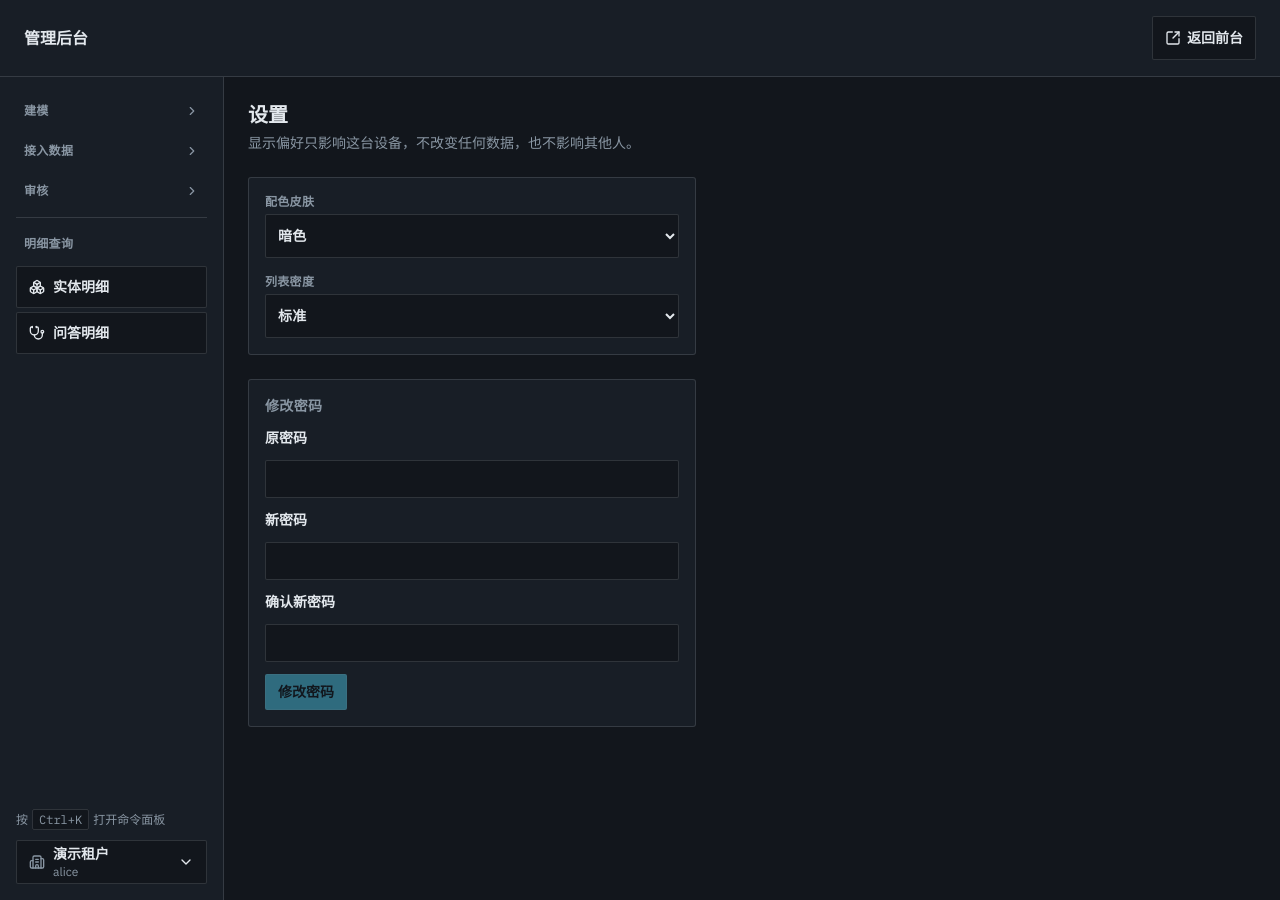
Test: 设置页的改密码 › 两次新密码不一致时不发请求
In the password field labelled "原密码": (472, 479) [265,460,679,498], type "password1"
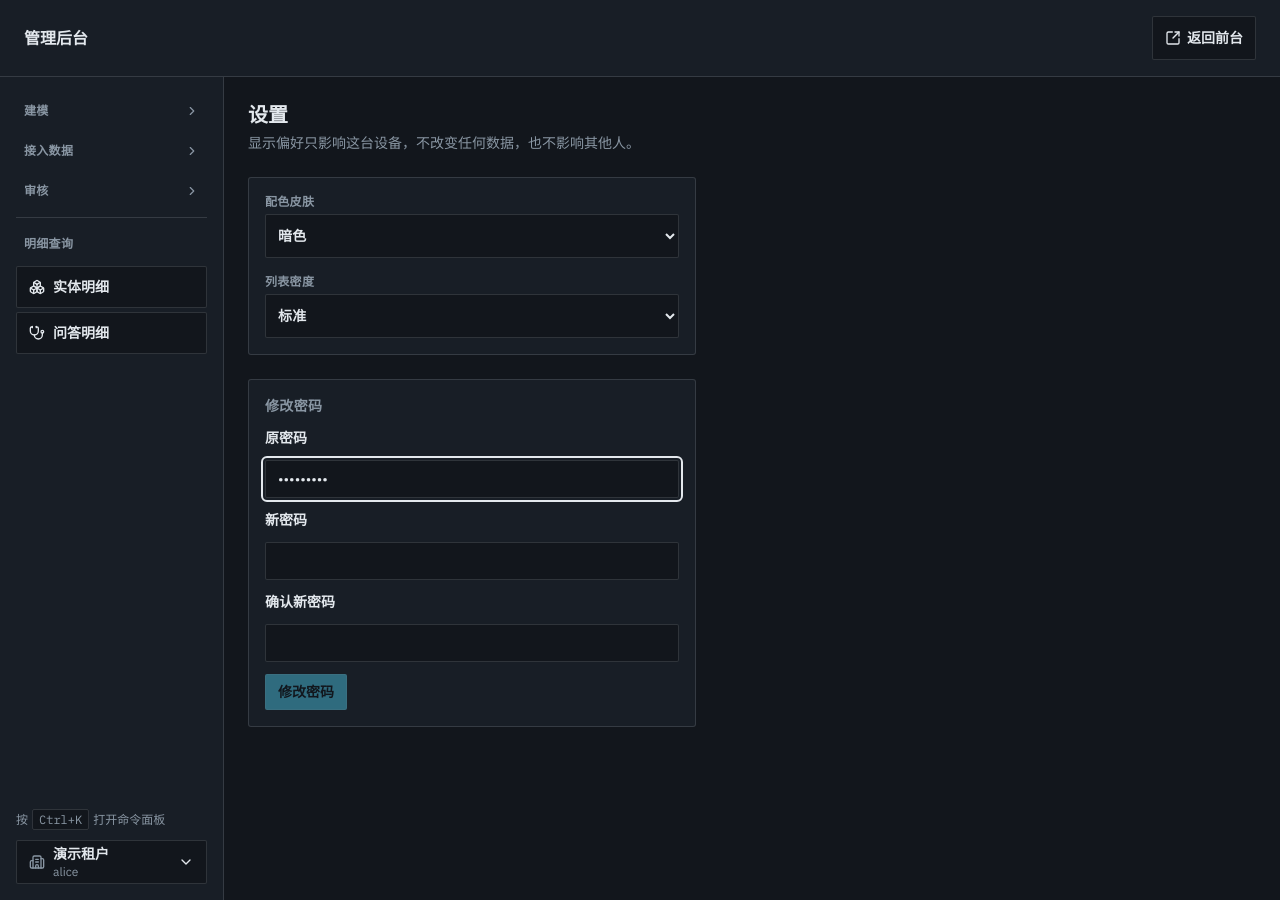
In the password field labelled "新密码": (472, 561) [265,542,679,580], type "password2"
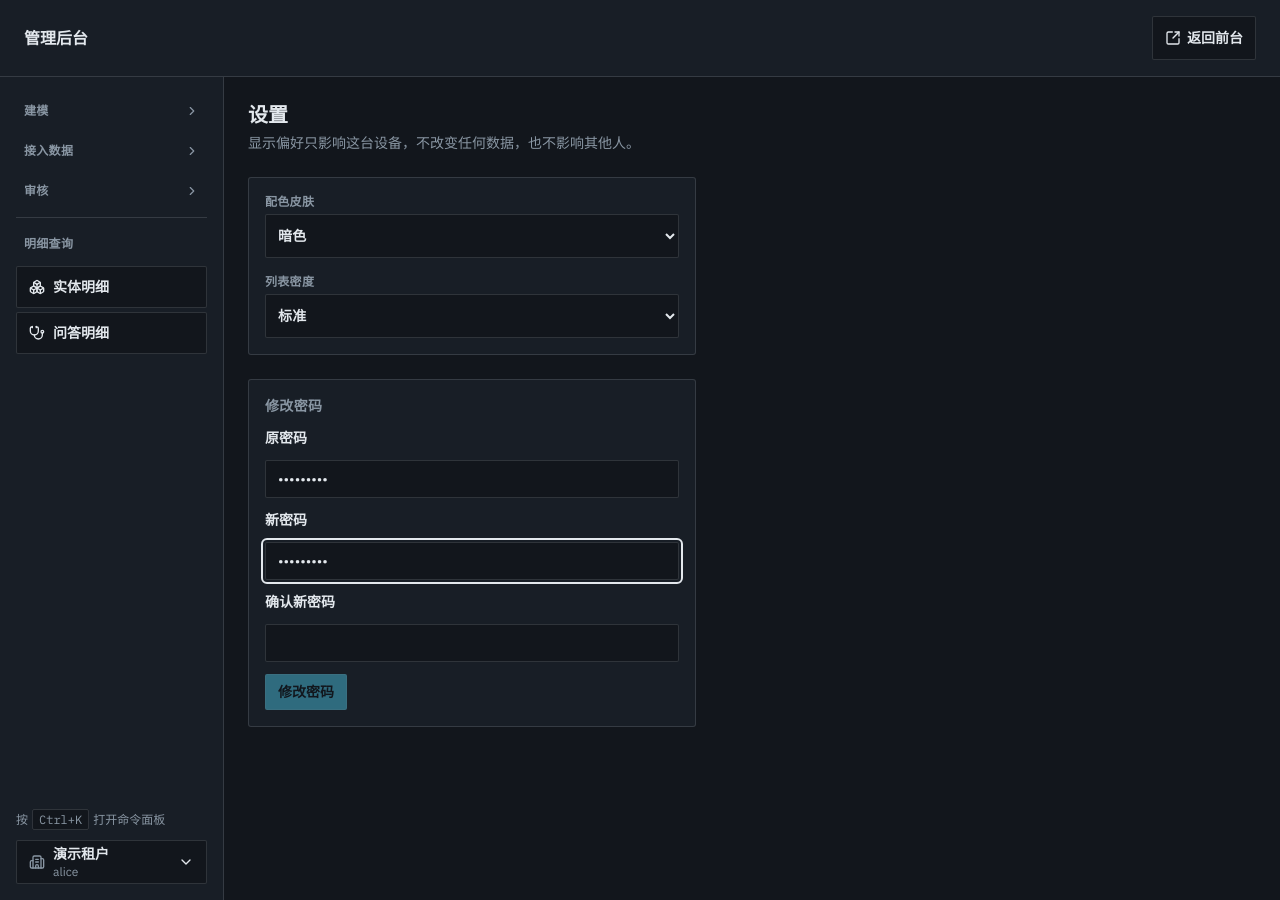
In the password field labelled "确认新密码": (472, 643) [265,624,679,662], type "password3"
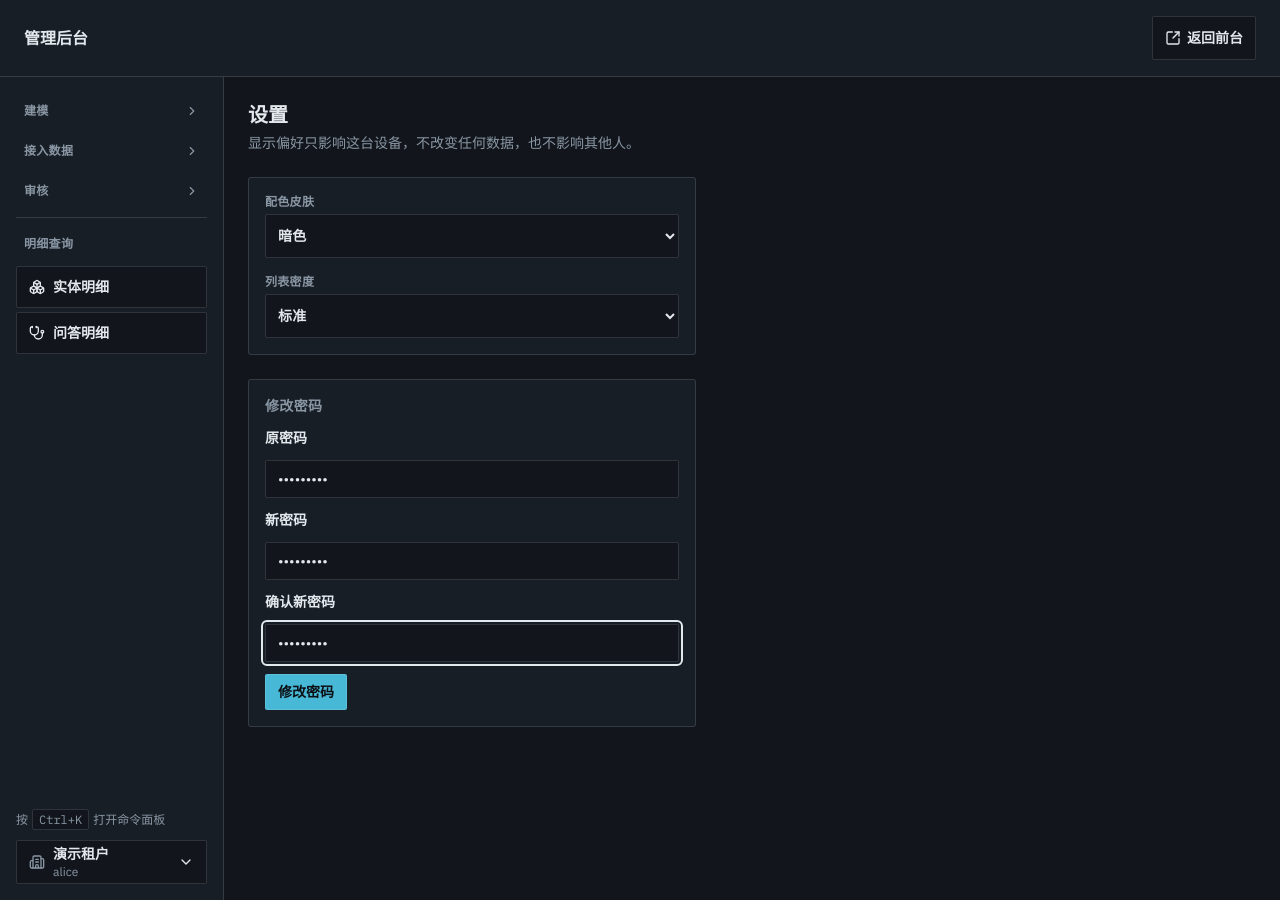
Click the button "修改密码": (306, 692) [265,674,347,710]
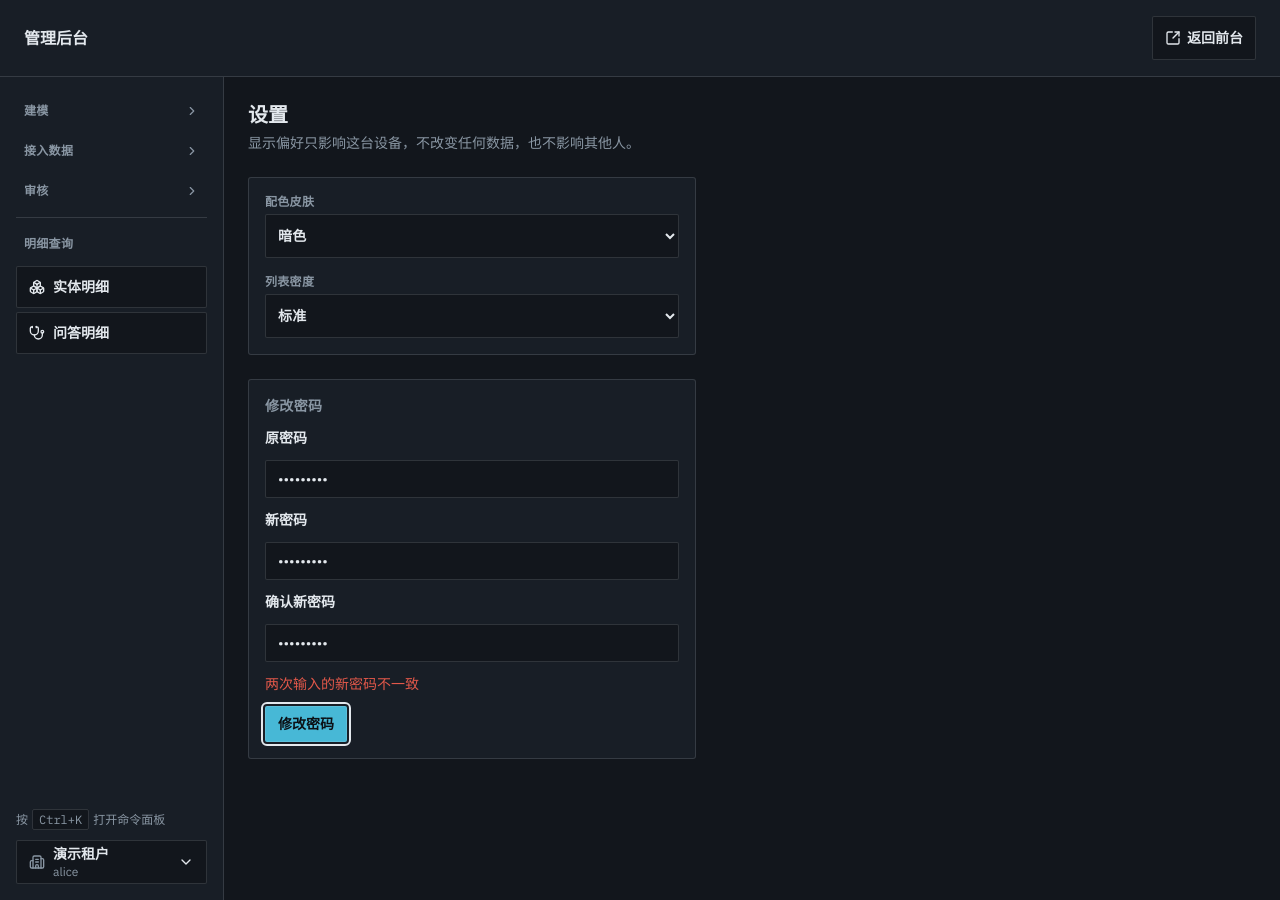
Result: the message "两次输入的新密码不一致" is shown at [265,675,419,693]
